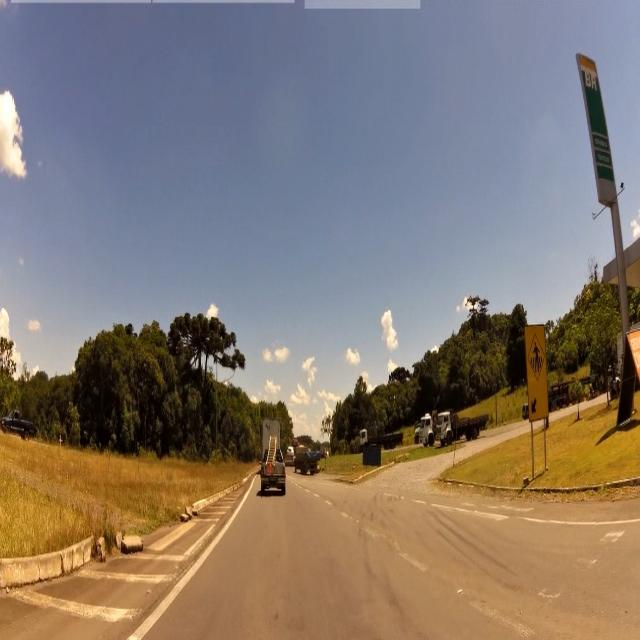A-32a: (528, 332, 548, 381)
